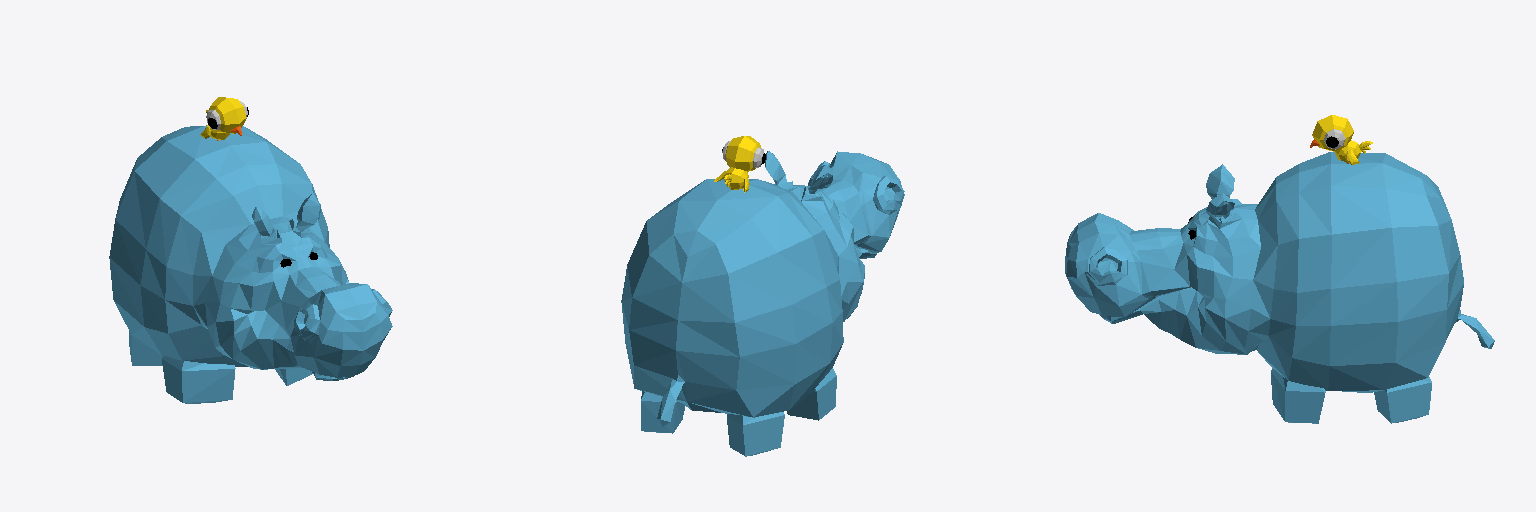
The model's file is Hippo_OBJ.obj.
3 views of the same model, side by side, from view 1: azimuth 30°, elevation 25°; view 2: azimuth 150°, elevation 25°; view 3: azimuth 270°, elevation 25° (orthographic).
Parts seen in each view (by area): view 1: Body Hippo3, Hippo3 Bird; view 2: Body Hippo3, Hippo3 Bird; view 3: Body Hippo3, Hippo3 Bird.
Boxes of the visible parts, box(x1,y1,x2,y2) form: Body Hippo3: box(109, 125, 392, 403); Hippo3 Bird: box(200, 97, 248, 140); Body Hippo3: box(621, 151, 904, 456); Hippo3 Bird: box(714, 136, 765, 192); Body Hippo3: box(1065, 152, 1494, 423); Hippo3 Bird: box(1310, 115, 1372, 164).
Bounding box in the file's own units: 7.8 × 11.58 × 16.11.